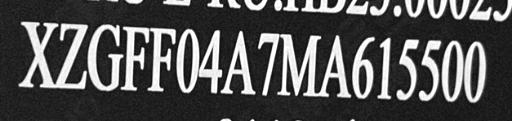letter: (276, 31, 322, 98), (84, 21, 124, 92), (19, 20, 59, 89), (315, 31, 353, 100), (219, 28, 257, 95), (54, 21, 88, 90), (120, 25, 150, 92), (147, 25, 177, 92), (196, 29, 226, 94), (351, 31, 377, 102), (175, 27, 201, 94), (440, 38, 466, 105), (394, 37, 420, 102), (462, 40, 488, 105), (256, 29, 280, 98), (417, 37, 441, 104), (376, 36, 394, 103)
